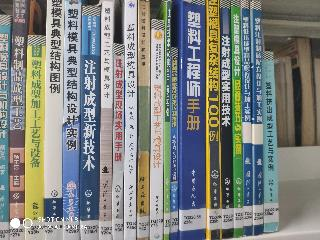book-spine: (181, 1, 206, 238), (46, 0, 65, 240), (10, 1, 29, 240), (81, 7, 100, 239), (64, 1, 81, 240), (27, 36, 45, 240), (100, 1, 114, 239), (207, 1, 221, 239), (150, 19, 165, 240), (260, 52, 278, 231), (220, 1, 233, 238), (137, 1, 149, 240), (124, 1, 136, 239), (252, 1, 263, 234), (0, 15, 11, 239), (232, 2, 242, 236), (242, 2, 251, 235), (114, 45, 124, 240), (164, 1, 172, 240), (171, 48, 178, 239)
